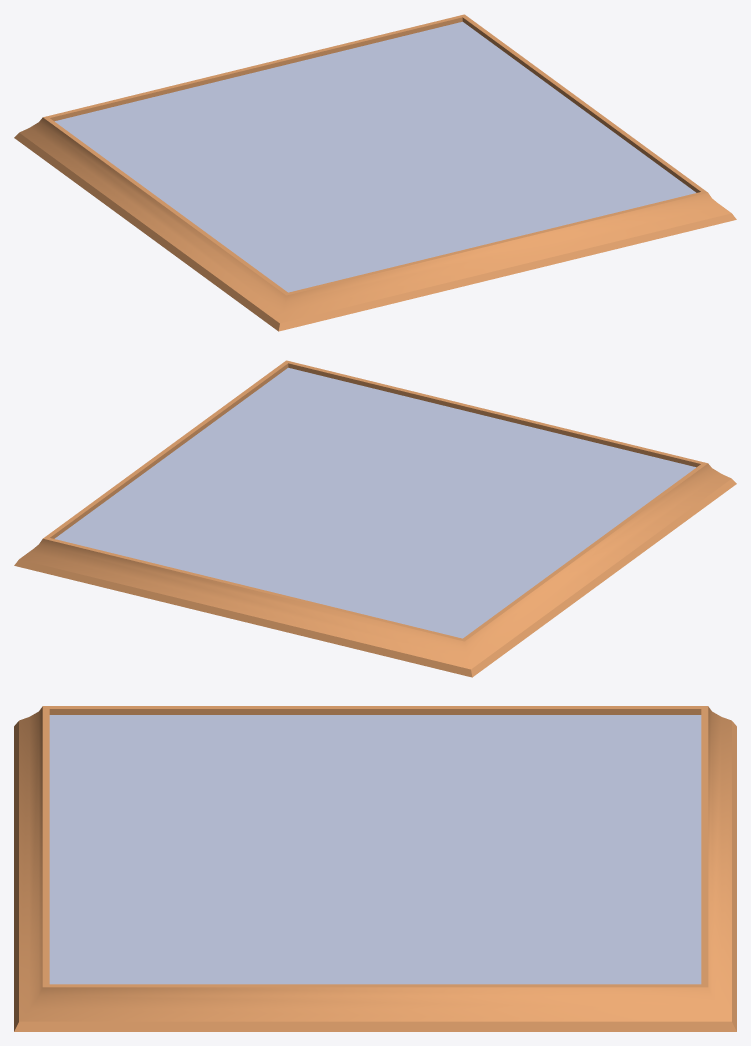
The model's file is board.fbx.
3 views of the same model, one above another, from view 1: azimuth 30°, elevation 25°; view 2: azimuth 150°, elevation 25°; view 3: azimuth 270°, elevation 25° (orthographic). The views are drawn at different scales.
Parts seen in each view (by area): view 1: Cube; view 2: Cube; view 3: Cube.
Part boxes in pixels (x1,y1,x2,y2): Cube: (14, 14, 736, 331); Cube: (14, 360, 736, 677); Cube: (14, 706, 736, 1031).
Size of the model in its own units: 888 by 44.13 by 888.
